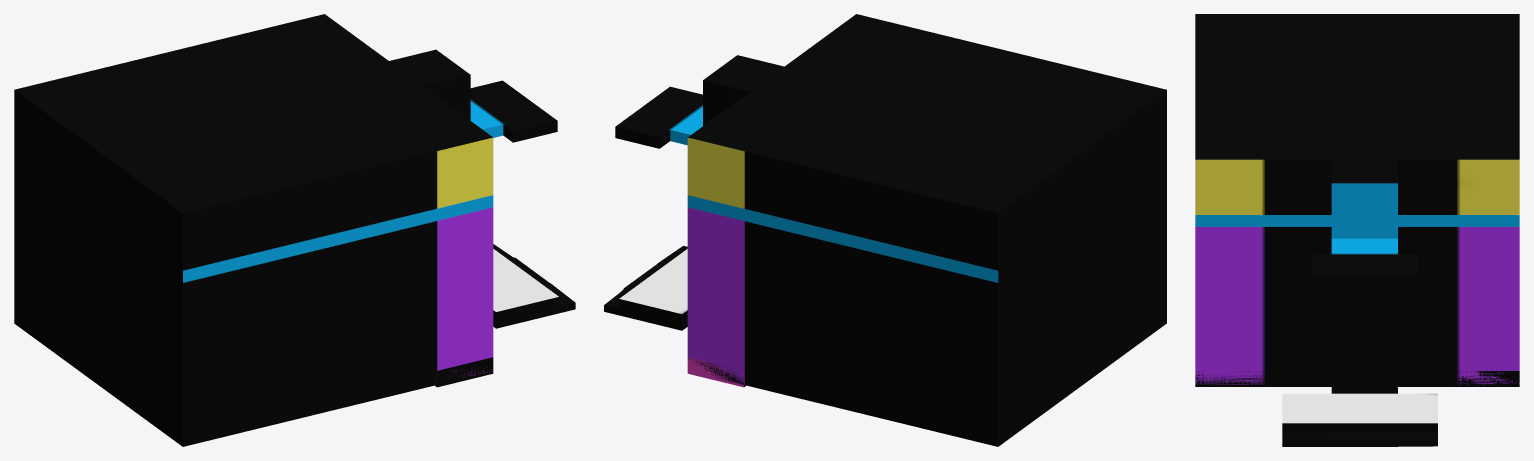
Rendered from Blender School.fbx.
The picture shows the model from 3 angles, left to right: view 1: azimuth 30°, elevation 25°; view 2: azimuth 150°, elevation 25°; view 3: azimuth 270°, elevation 25°; orthographic projection. The views are drawn at different scales.
Parts seen in each view (by area): view 1: Cube; view 2: Cube; view 3: Cube.
Boxes of the visible parts, box(x1,y1,x2,y2) form: Cube: box(14, 14, 575, 446); Cube: box(604, 14, 1166, 446); Cube: box(1195, 14, 1519, 446).
Size of the model in its own units: 1777 by 915 by 1185.
